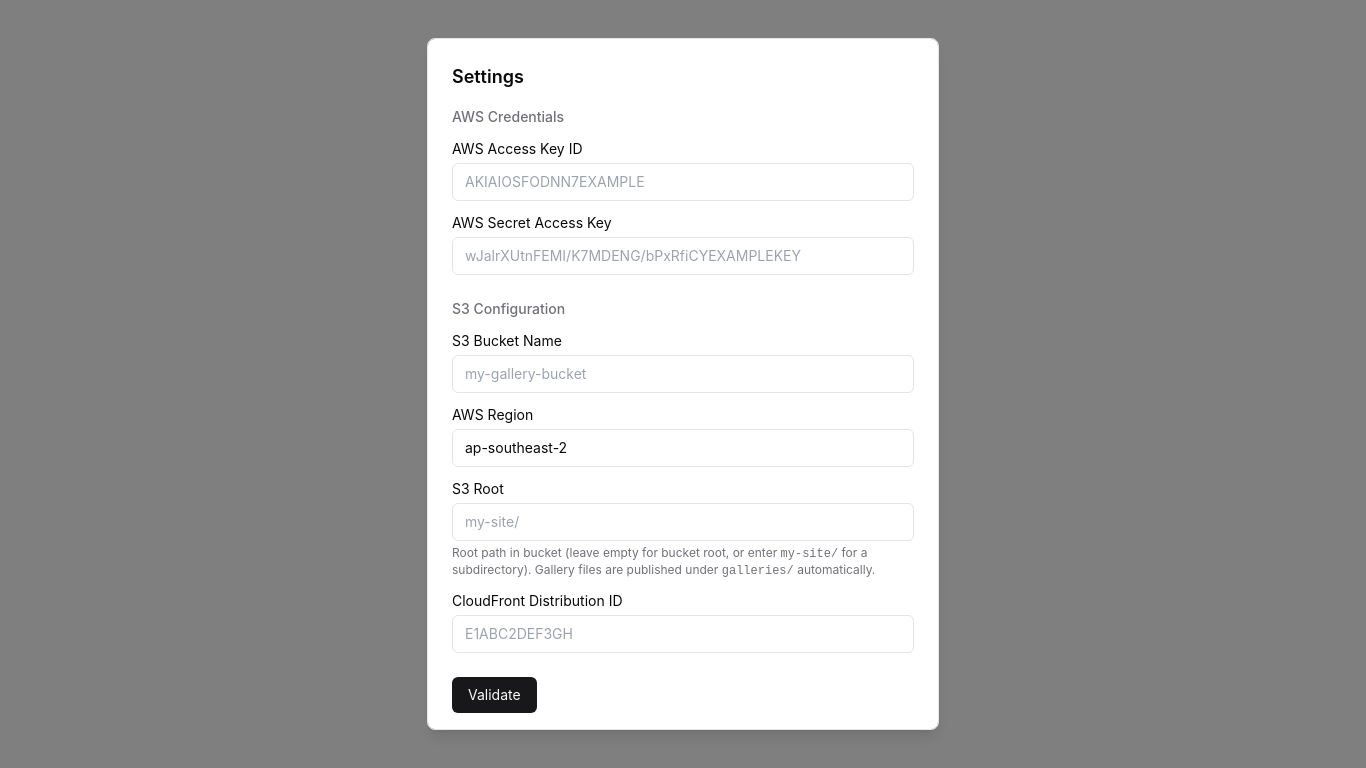
Scenario: SettingsDialog › shows validation error when fields are empty
The width and height of the screenshot is (1366, 768).
Click the button "Validate" at (494, 695), box left=452, top=677, right=537, bottom=713
(page scrolled)
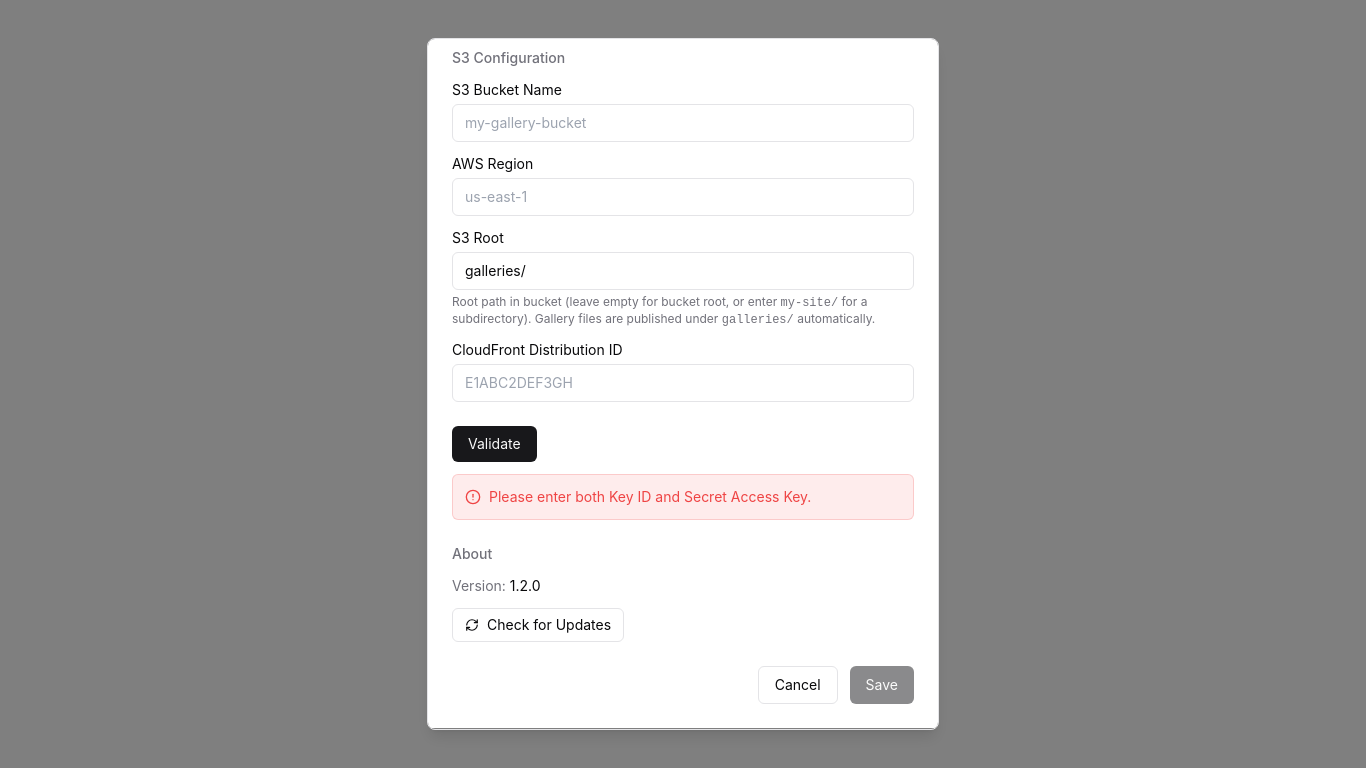
Expected: the element with test id "validation-error" is shown, left=452, top=474, right=914, bottom=520
